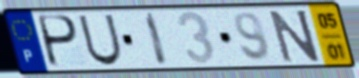3: (176, 9, 220, 67)
9: (232, 11, 273, 63)
I: (143, 11, 171, 68)
N: (267, 8, 323, 65)
P: (37, 14, 82, 70)
U: (76, 13, 125, 68)
